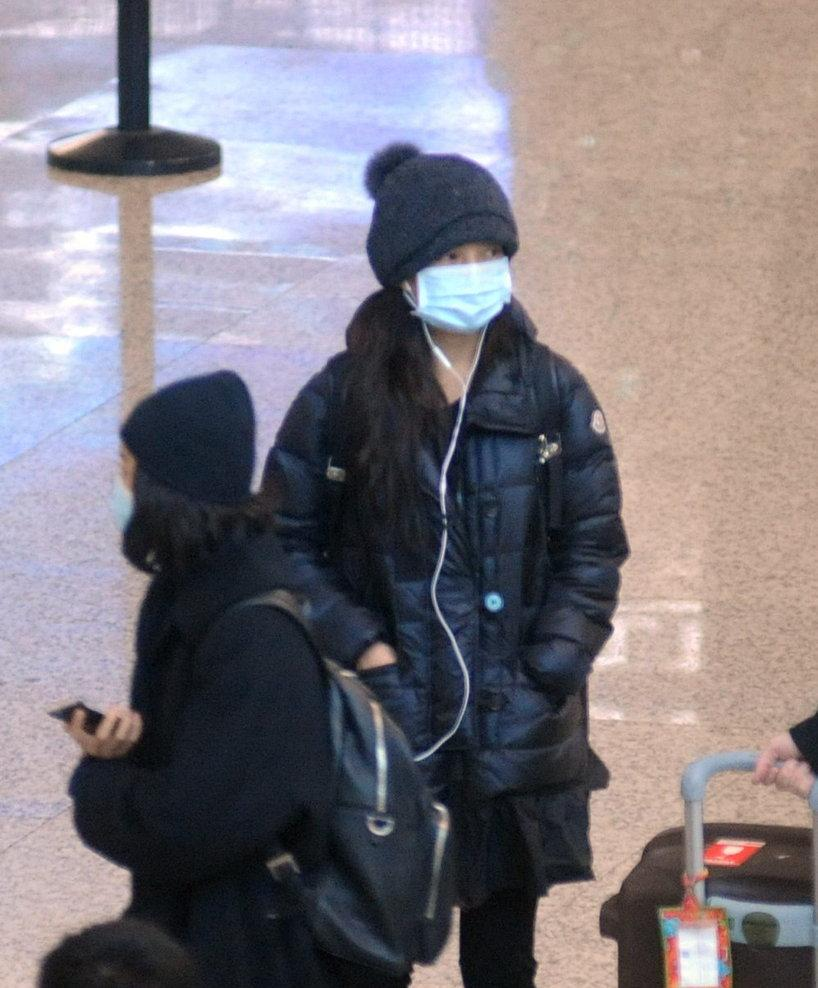face_mask: (424, 216, 502, 327)
